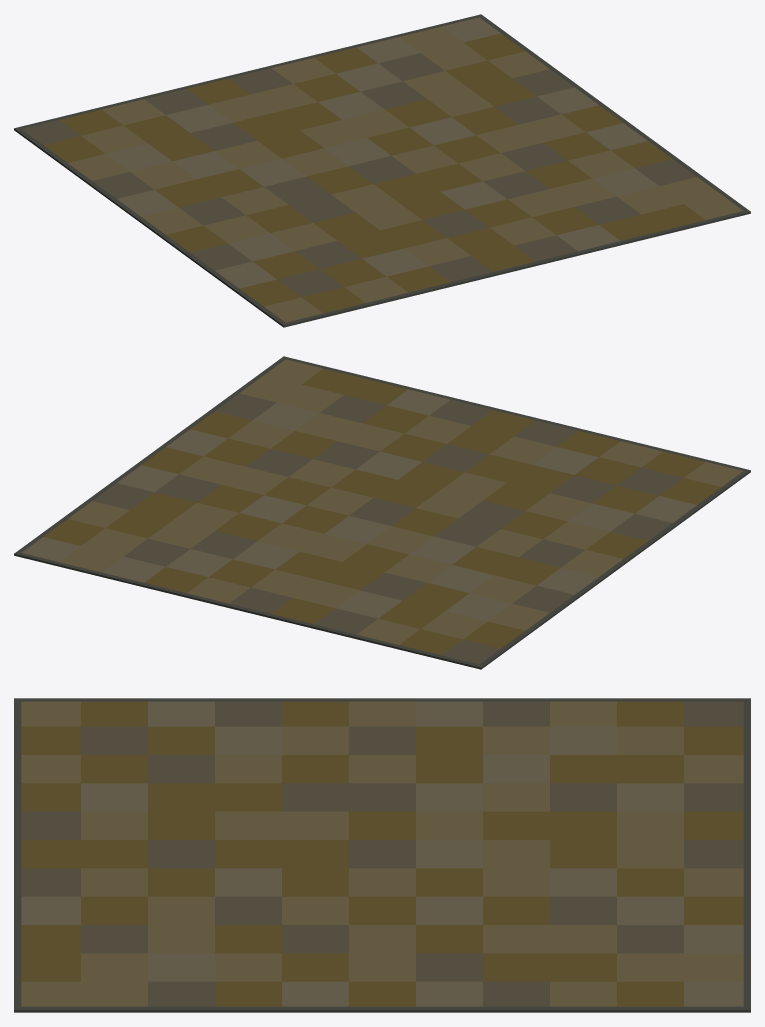
The model's file is Block.fbx.
3 views of the same model, one above another, from view 1: azimuth 30°, elevation 25°; view 2: azimuth 150°, elevation 25°; view 3: azimuth 270°, elevation 25° (orthographic). The views are drawn at different scales.
Visible parts, largest first — view 1: Block; view 2: Block; view 3: Block.
Boxes of the visible parts, bbox=[...] form: Block: bbox=[14, 14, 750, 327]; Block: bbox=[14, 356, 750, 669]; Block: bbox=[14, 698, 750, 1012].
Bounding box in the file's own units: 50 × 0.2 × 50.
Materials: 1 (1 with a texture image).
